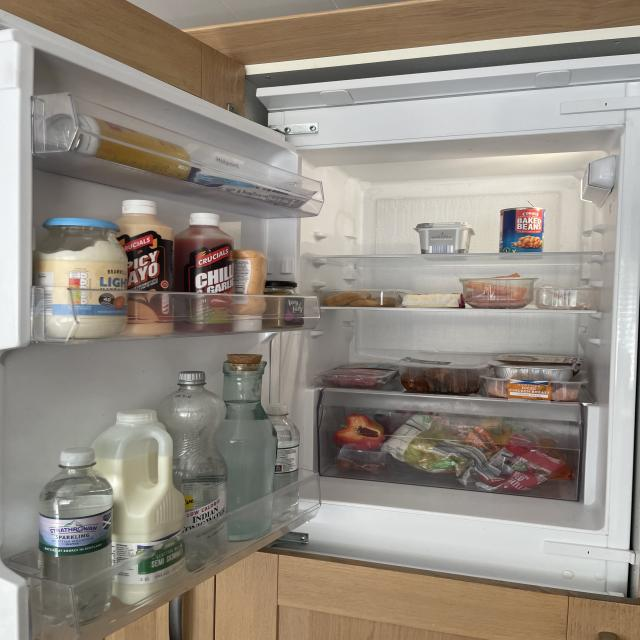Carne cerdo: (538, 290, 606, 310), (466, 290, 528, 306)
Carne pollo: (489, 353, 584, 381), (481, 386, 581, 400)
Leche: (92, 409, 181, 603)
Lechuga/Endivia: (397, 413, 460, 471)
Mantequilla: (417, 223, 474, 256)
Queso: (404, 292, 465, 310)
Tomate: (338, 454, 386, 475)
